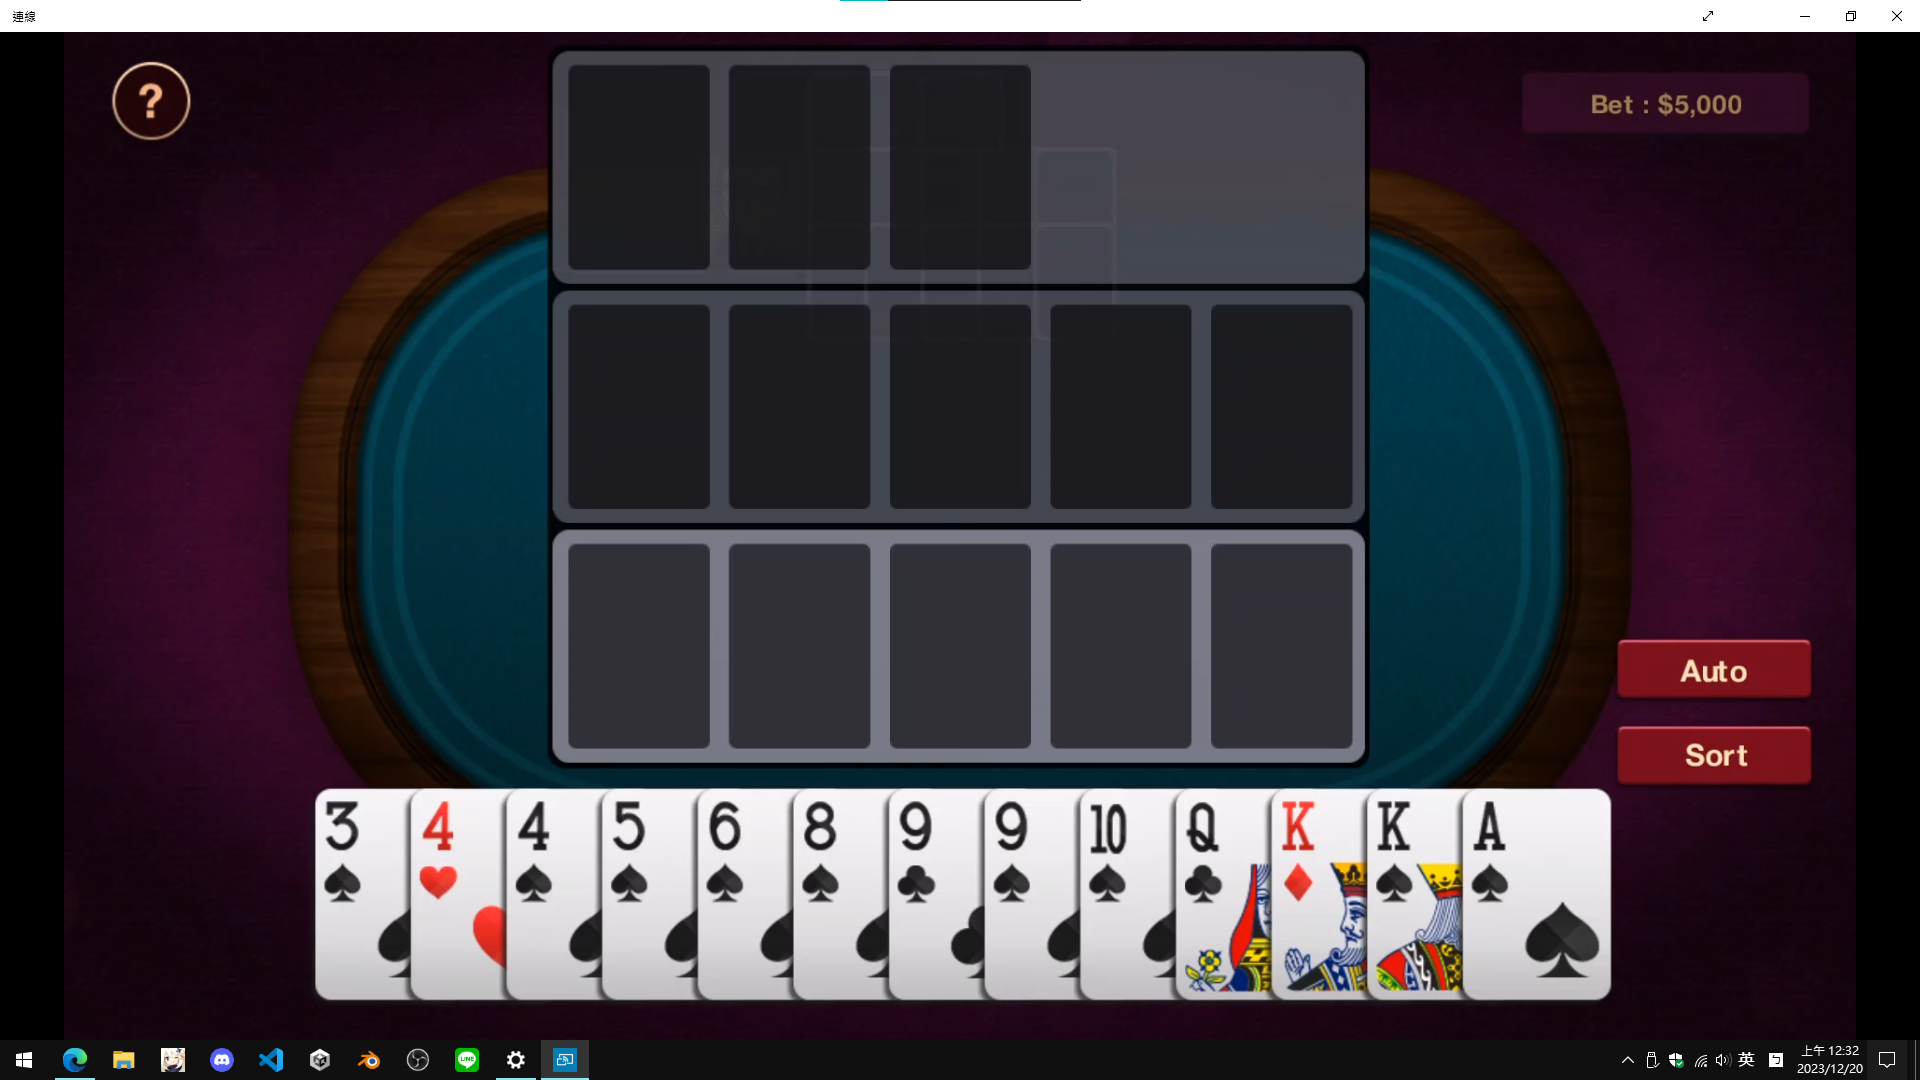10S: (1084, 798, 1129, 910)
3S: (320, 796, 364, 911)
4H: (417, 799, 462, 915)
4S: (513, 798, 555, 915)
5S: (607, 795, 650, 911)
6S: (703, 799, 748, 913)
8S: (800, 798, 844, 911)
9C: (897, 798, 938, 910)
9S: (990, 796, 1034, 914)
AS: (1469, 795, 1513, 913)
KD: (1278, 798, 1317, 906)
KS: (1373, 798, 1416, 907)
QC: (1182, 796, 1228, 910)
